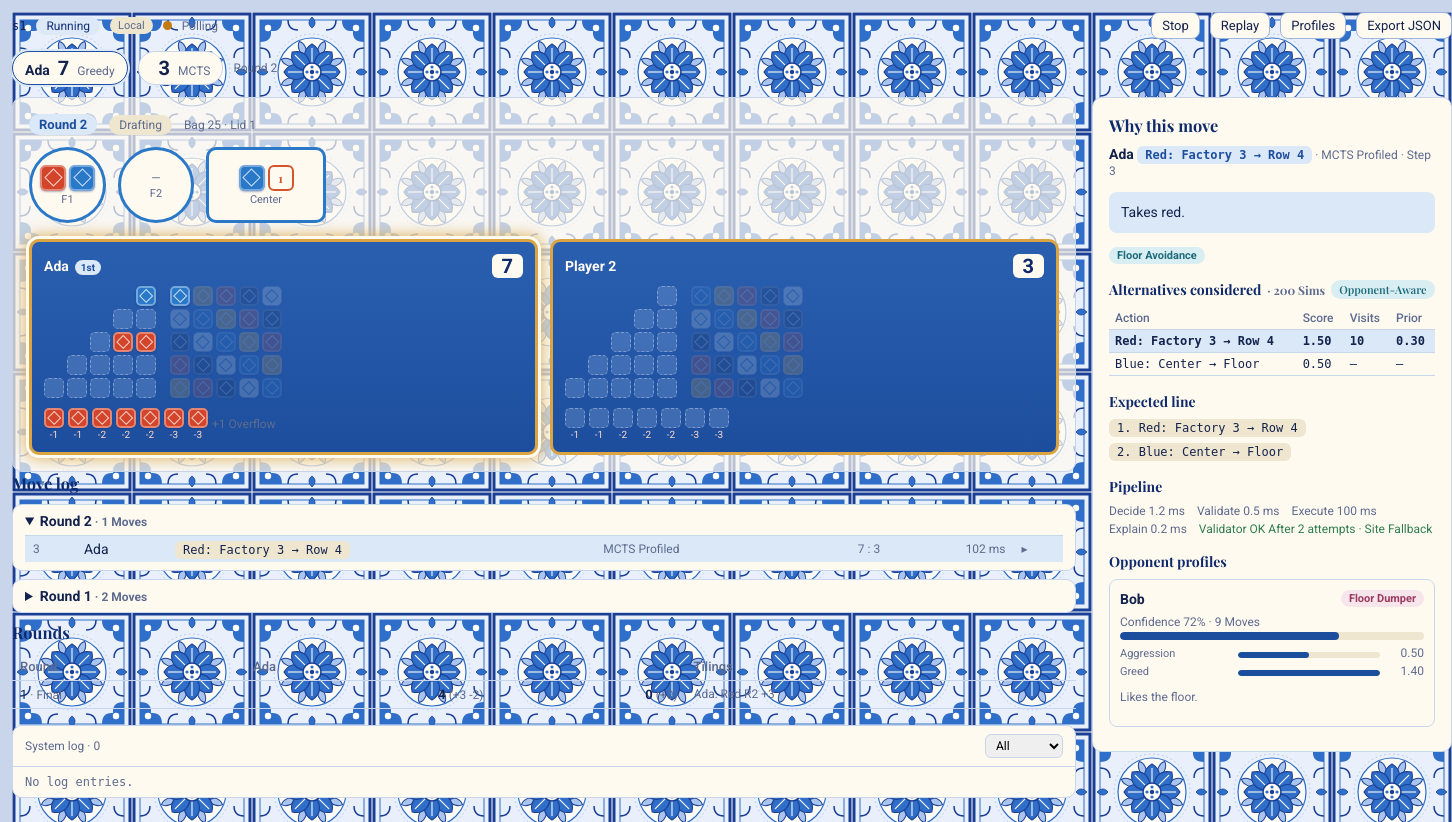
Scenario: Monitor › stops a running session
What coordinates should you click on to do the following:
click the button "Stop"
I would click on:
 (1176, 26)
Its box is left=1151, top=12, right=1200, bottom=39.
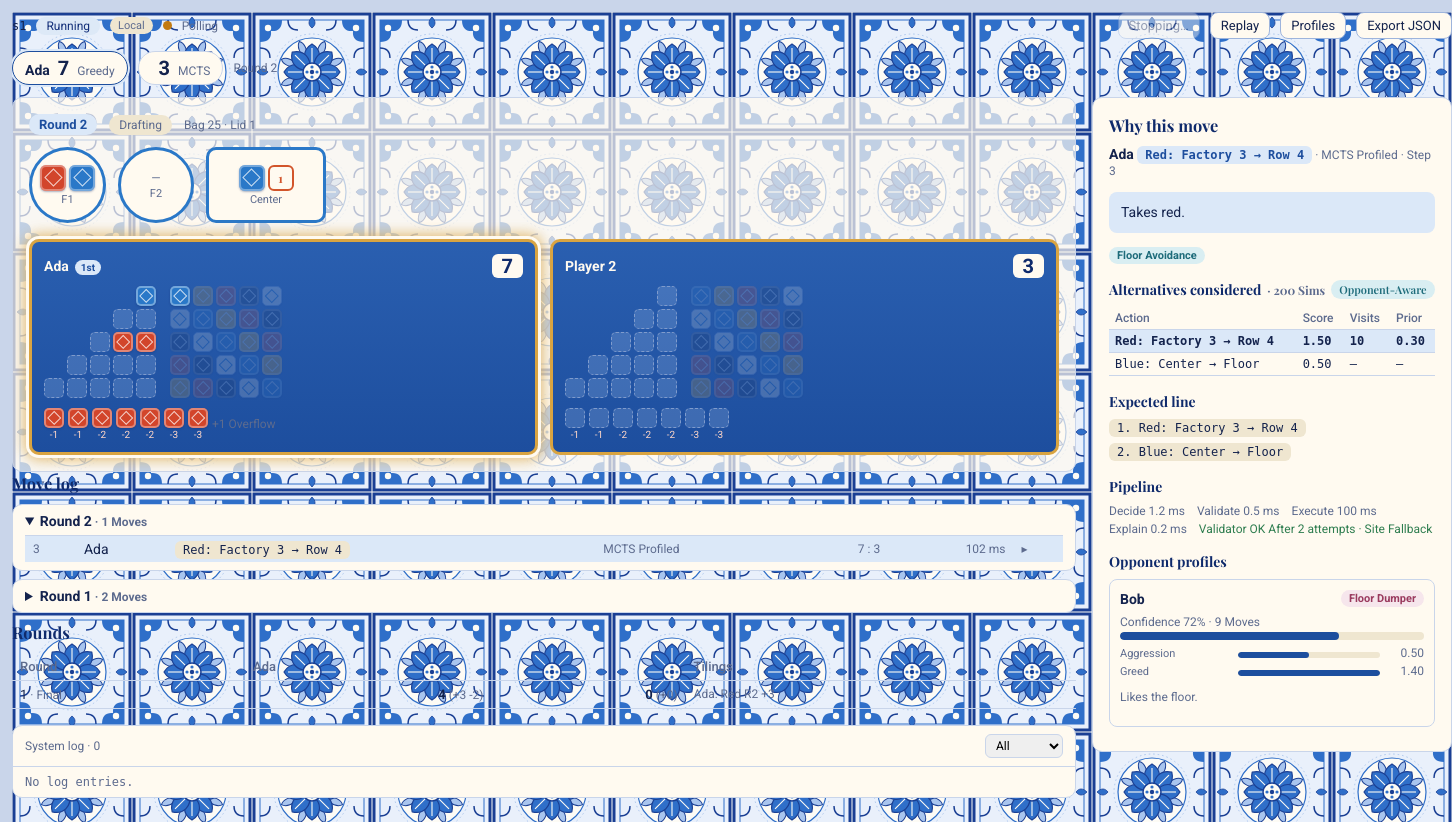
Check: the button "Stopping…" is disabled, box left=1118, top=12, right=1200, bottom=39
